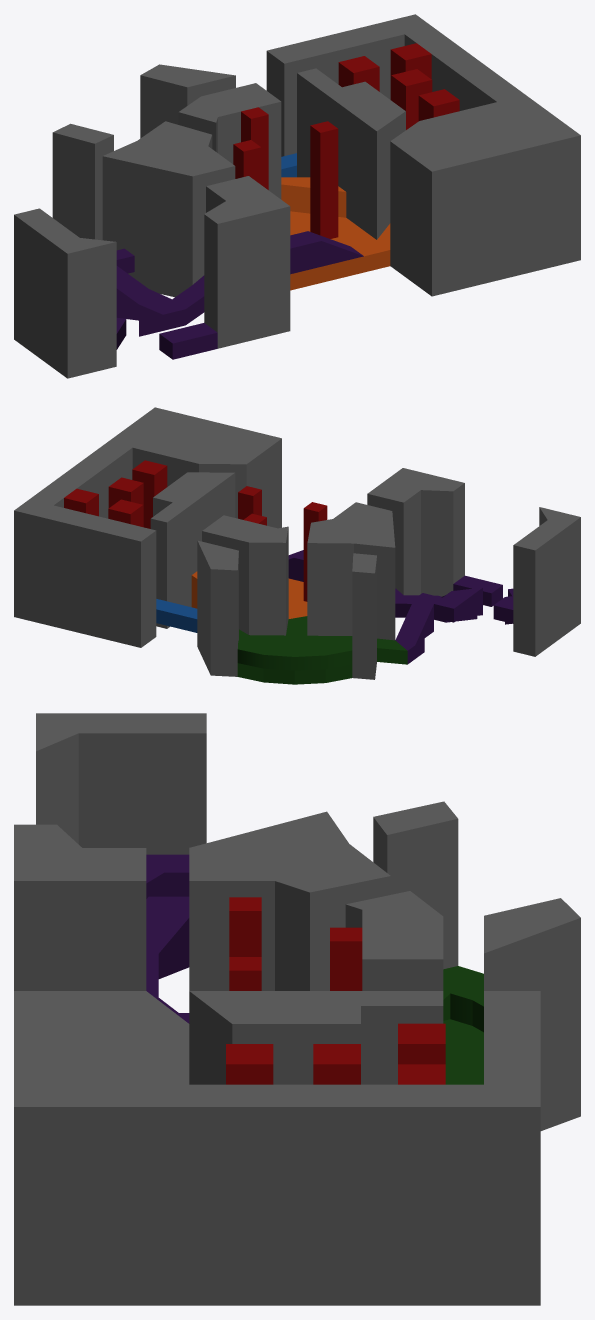
Rendered from LD2_UnrealArena.FBX.
The picture shows the model from 3 angles, top to bottom: view 1: azimuth 30°, elevation 25°; view 2: azimuth 150°, elevation 25°; view 3: azimuth 270°, elevation 25°; orthographic projection. The views are drawn at different scales.
Parts seen in each view (by area): view 1: Line004, Line008, Line007, Line003, Line005, Line009, Line002, Line010, Box245, Line001, Box267, Box249 (+12 smaller); view 2: Line004, Line008, Line003, Line007, Line005, Line002, Line010, Line009, Cylinder008, Box254, Box248, Box266 (+12 smaller); view 3: Line004, Line008, Line007, Line003, Line005, Line010, Line009, Line002, Box246, Box254, Cylinder008, Box253 (+8 smaller).
Part boxes in pixels (x1,y1,x2,y2): Line004: (266, 14, 580, 296); Line008: (102, 121, 235, 297); Line007: (14, 208, 116, 378); Line003: (204, 176, 290, 348); Line005: (297, 68, 405, 239); Line009: (52, 123, 113, 240); Line002: (178, 83, 281, 199); Line010: (140, 64, 235, 138); Box245: (310, 121, 338, 238); Line001: (290, 211, 390, 290); Box267: (159, 323, 217, 359); Box249: (391, 69, 432, 129); Line004: (14, 407, 281, 647); Line008: (307, 502, 395, 640); Line003: (367, 468, 464, 596); Line007: (513, 507, 580, 656); Line005: (150, 472, 235, 628); Line002: (202, 515, 288, 635); Line010: (197, 540, 238, 676); Line009: (352, 553, 376, 679); Cylinder008: (237, 640, 352, 670); Box254: (237, 635, 352, 684); Box248: (132, 460, 167, 528); Box266: (395, 599, 433, 644); Line004: (14, 991, 540, 1305); Line008: (189, 811, 390, 990); Line007: (36, 713, 206, 854); Line003: (14, 824, 146, 990); Line005: (189, 991, 443, 1084); Line010: (484, 898, 580, 1130); Line009: (373, 801, 458, 969); Line002: (345, 891, 443, 990); Box246: (330, 927, 362, 990); Box254: (443, 1019, 483, 1084); Cylinder008: (443, 966, 483, 1032); Box253: (398, 1023, 445, 1064).
Size of the model in its own units: 20868 by 4916 by 12708.
